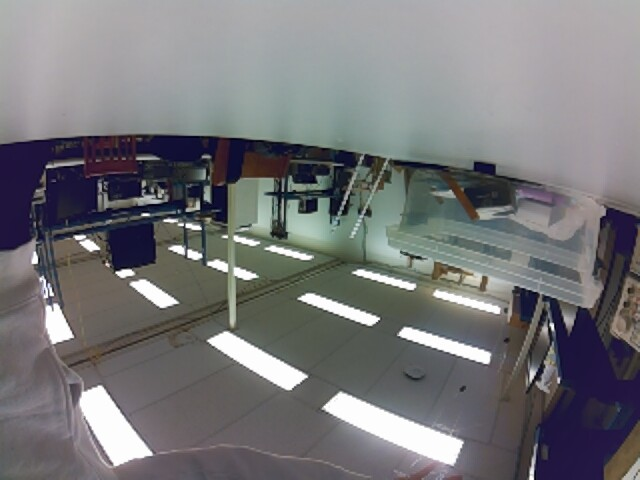mosquito: (458, 384, 466, 393), (503, 336, 510, 345), (503, 305, 509, 315)
